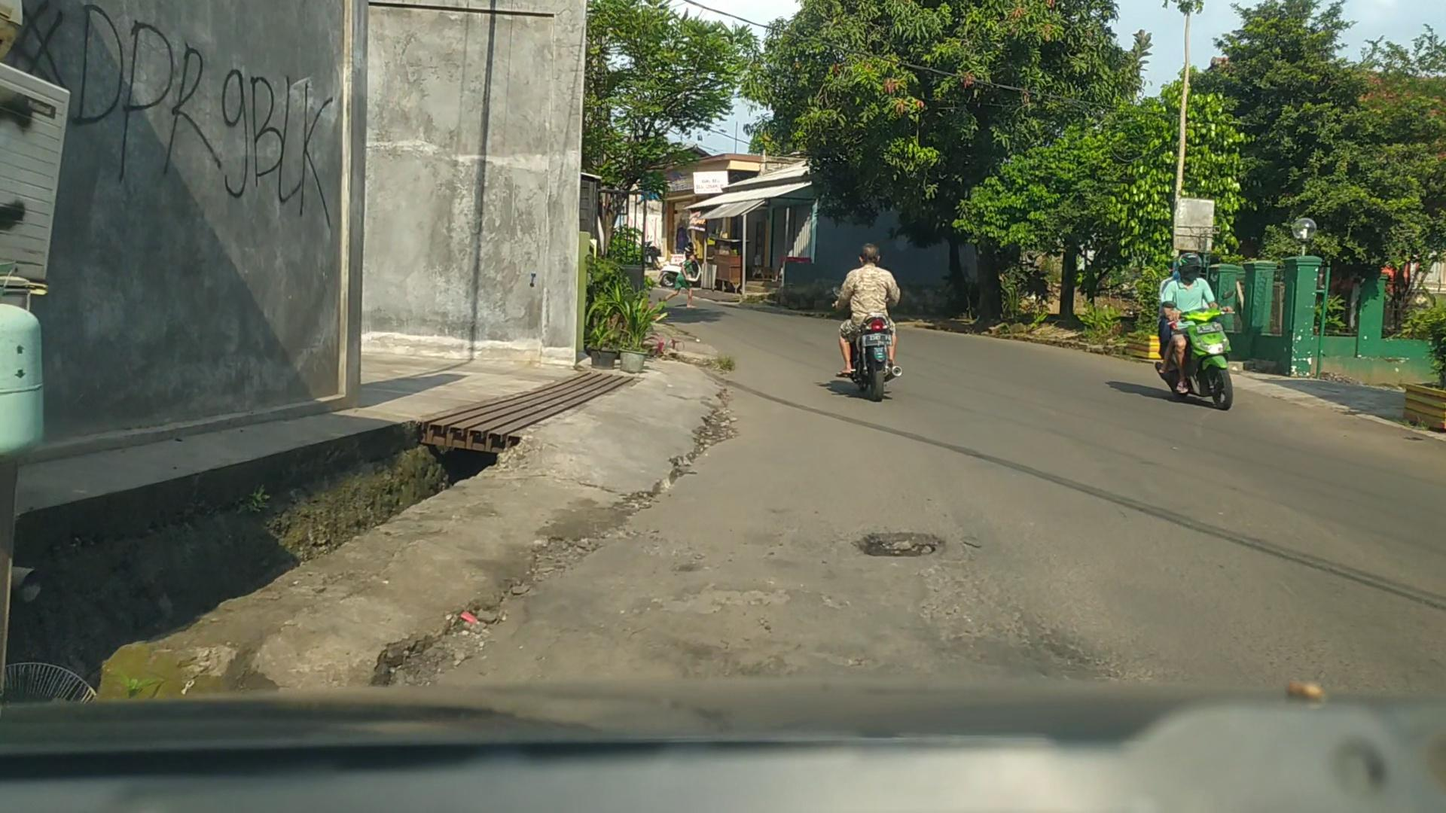pothole: (861, 526, 937, 555)
